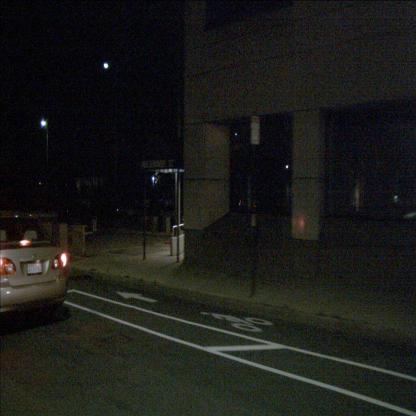vehicle-car: (0, 215, 67, 313)
